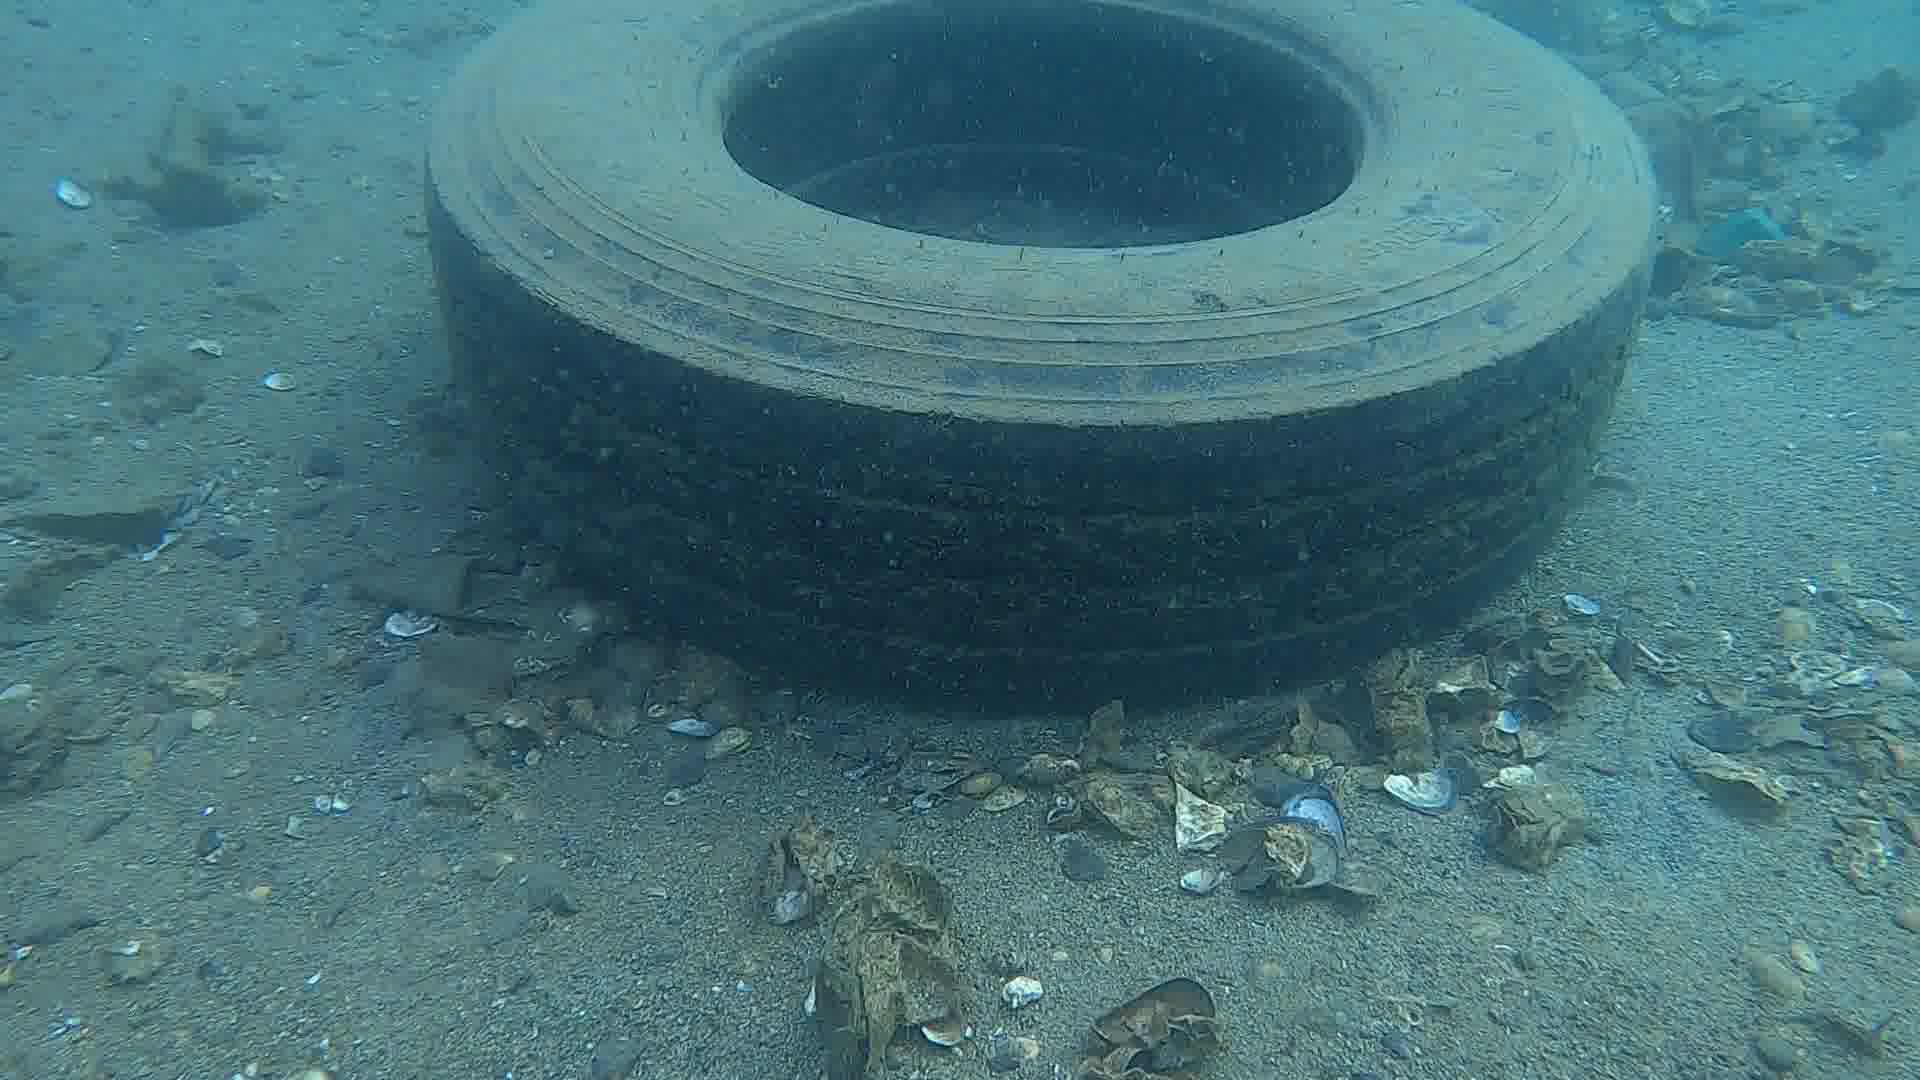tire: (429, 0, 1654, 712)
